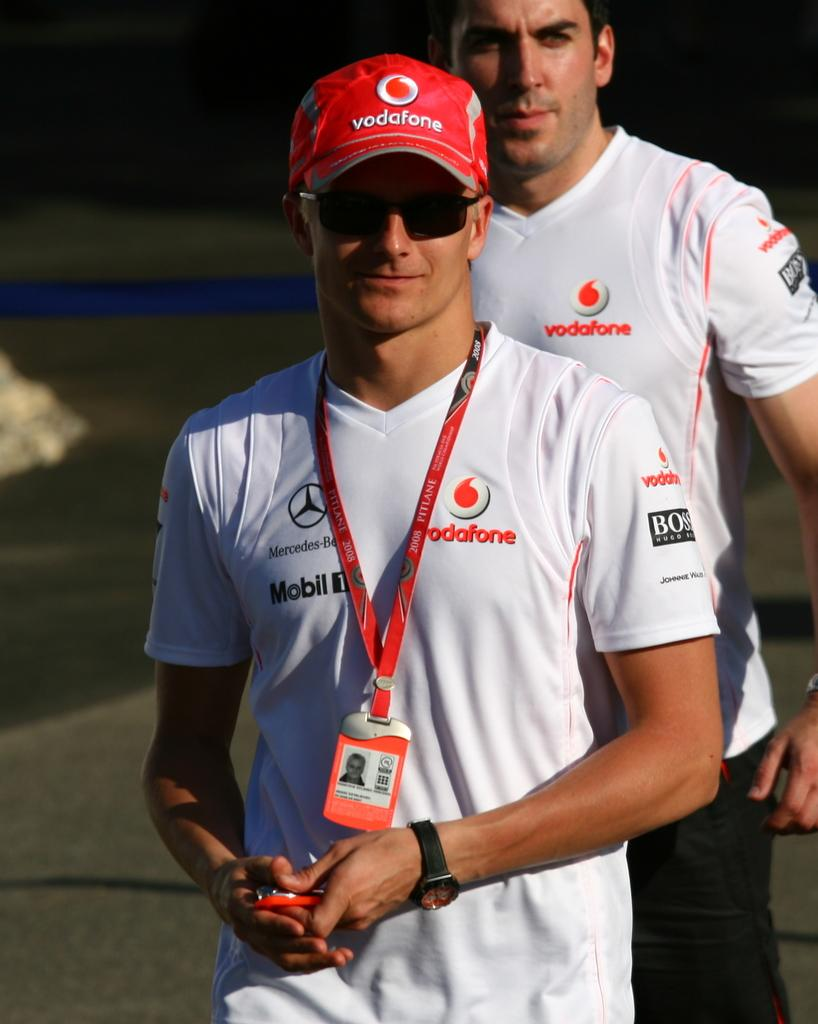Hat: (290, 50, 484, 194)
